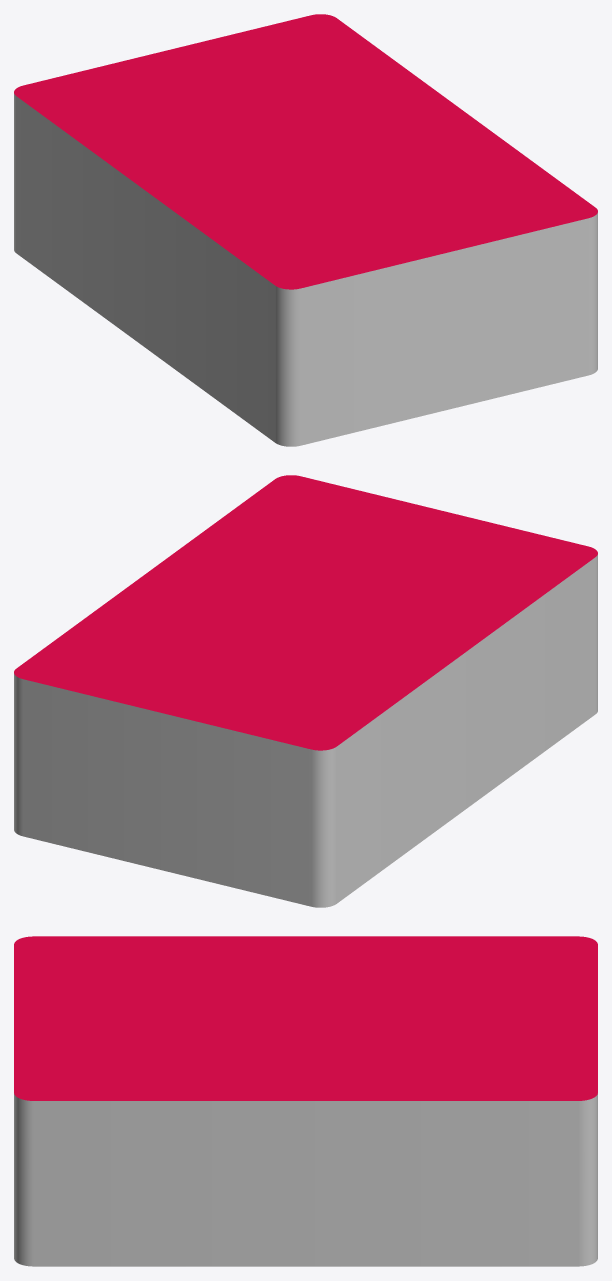
The model's file is deck.glb.
3 renders of one model, top to bottom at view 1: azimuth 30°, elevation 25°; view 2: azimuth 150°, elevation 25°; view 3: azimuth 270°, elevation 25°, orthographic. The views are drawn at different scales.
Parts seen in each view (by area): view 1: Plane; view 2: Plane; view 3: Plane.
Boxes of the visible parts, <box> form: Plane: <box>14,14,597,446</box>; Plane: <box>14,475,597,907</box>; Plane: <box>14,936,597,1266</box>.
Bounding box in the file's own units: 4 × 1.88 × 6.
